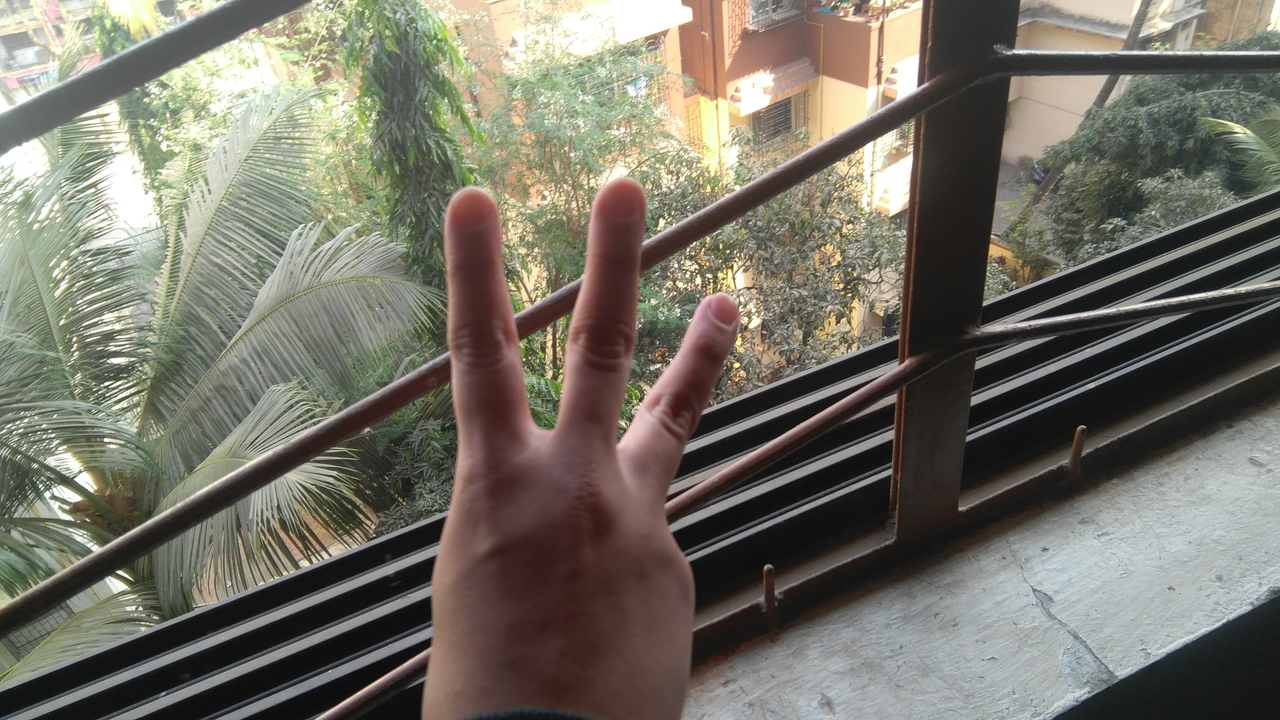fingertip: (438, 176, 496, 240), (684, 284, 744, 344), (592, 174, 648, 232)
